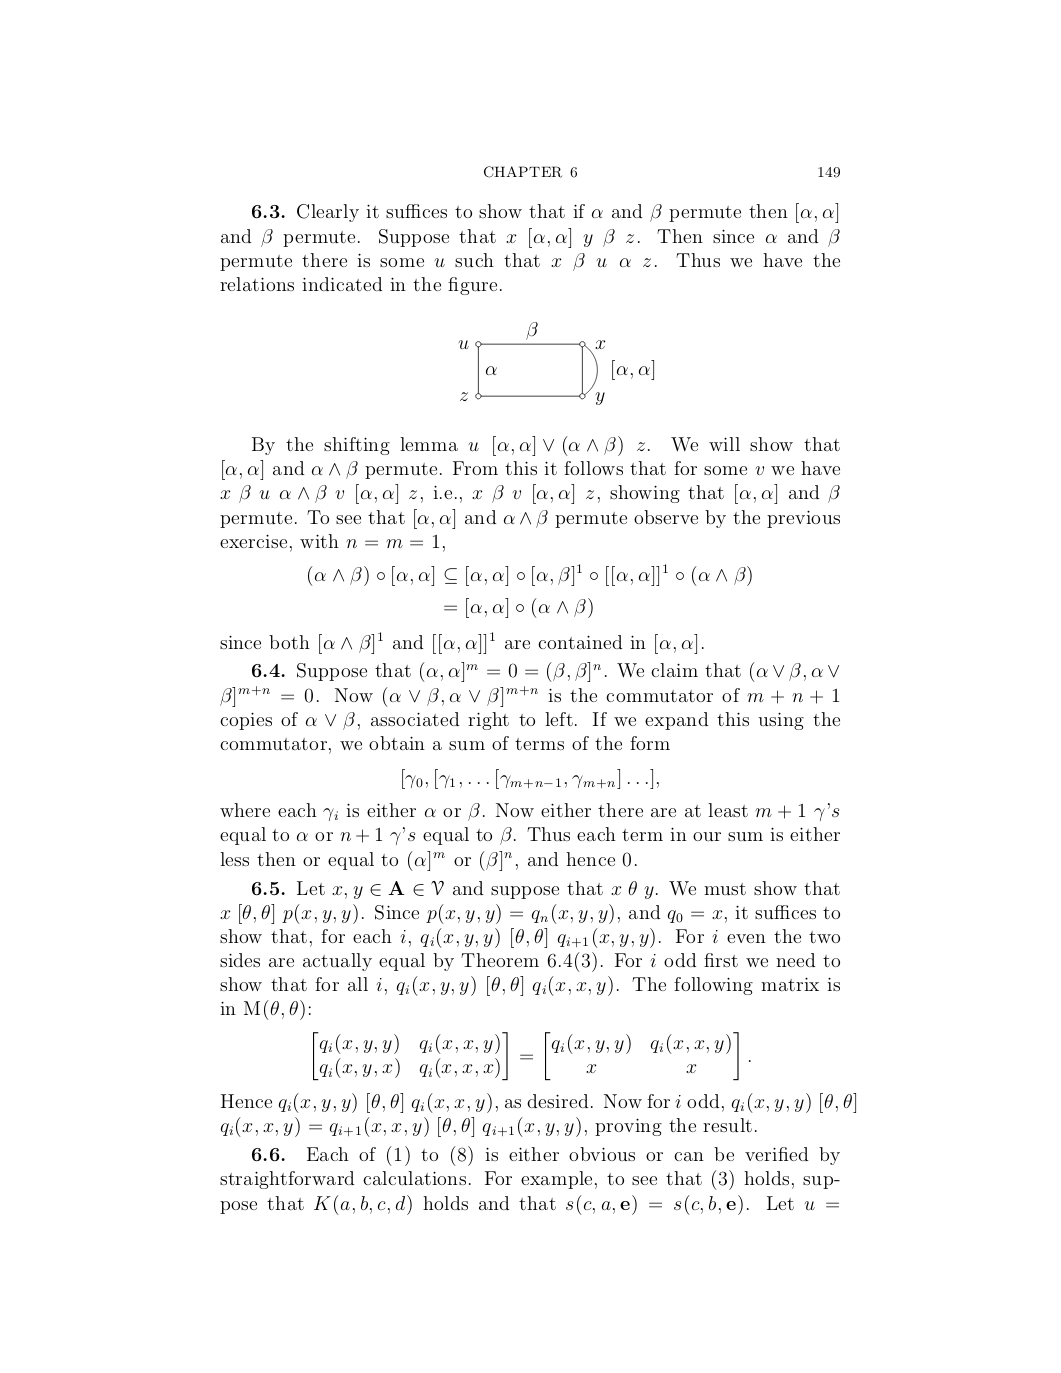figure: (458, 321, 654, 405)
formula: (313, 1031, 750, 1081), (308, 563, 751, 586), (402, 768, 658, 789), (444, 597, 592, 619)
